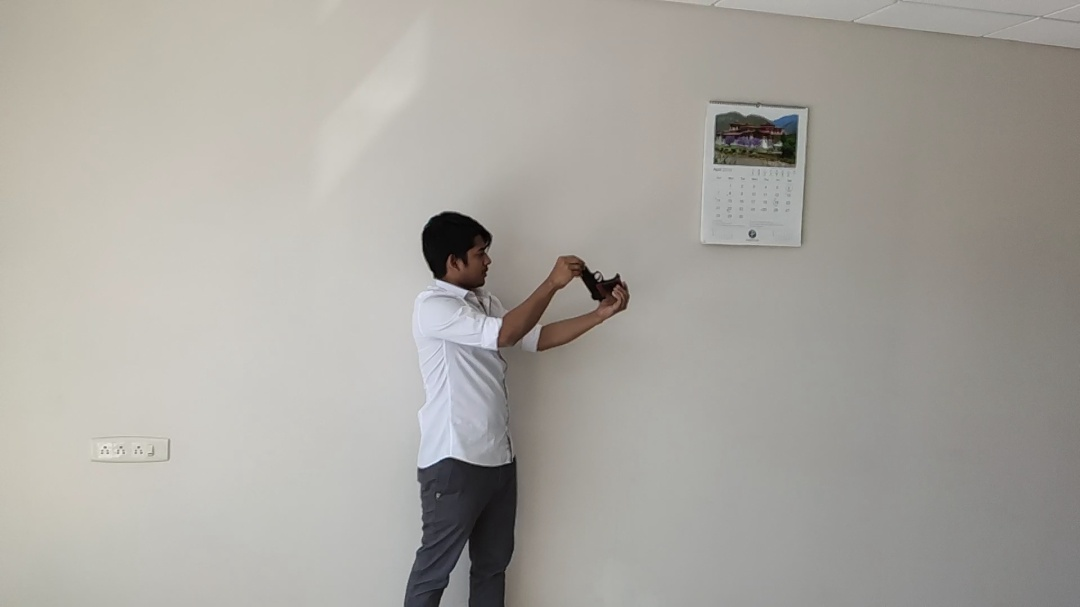gun: (580, 272, 621, 302)
